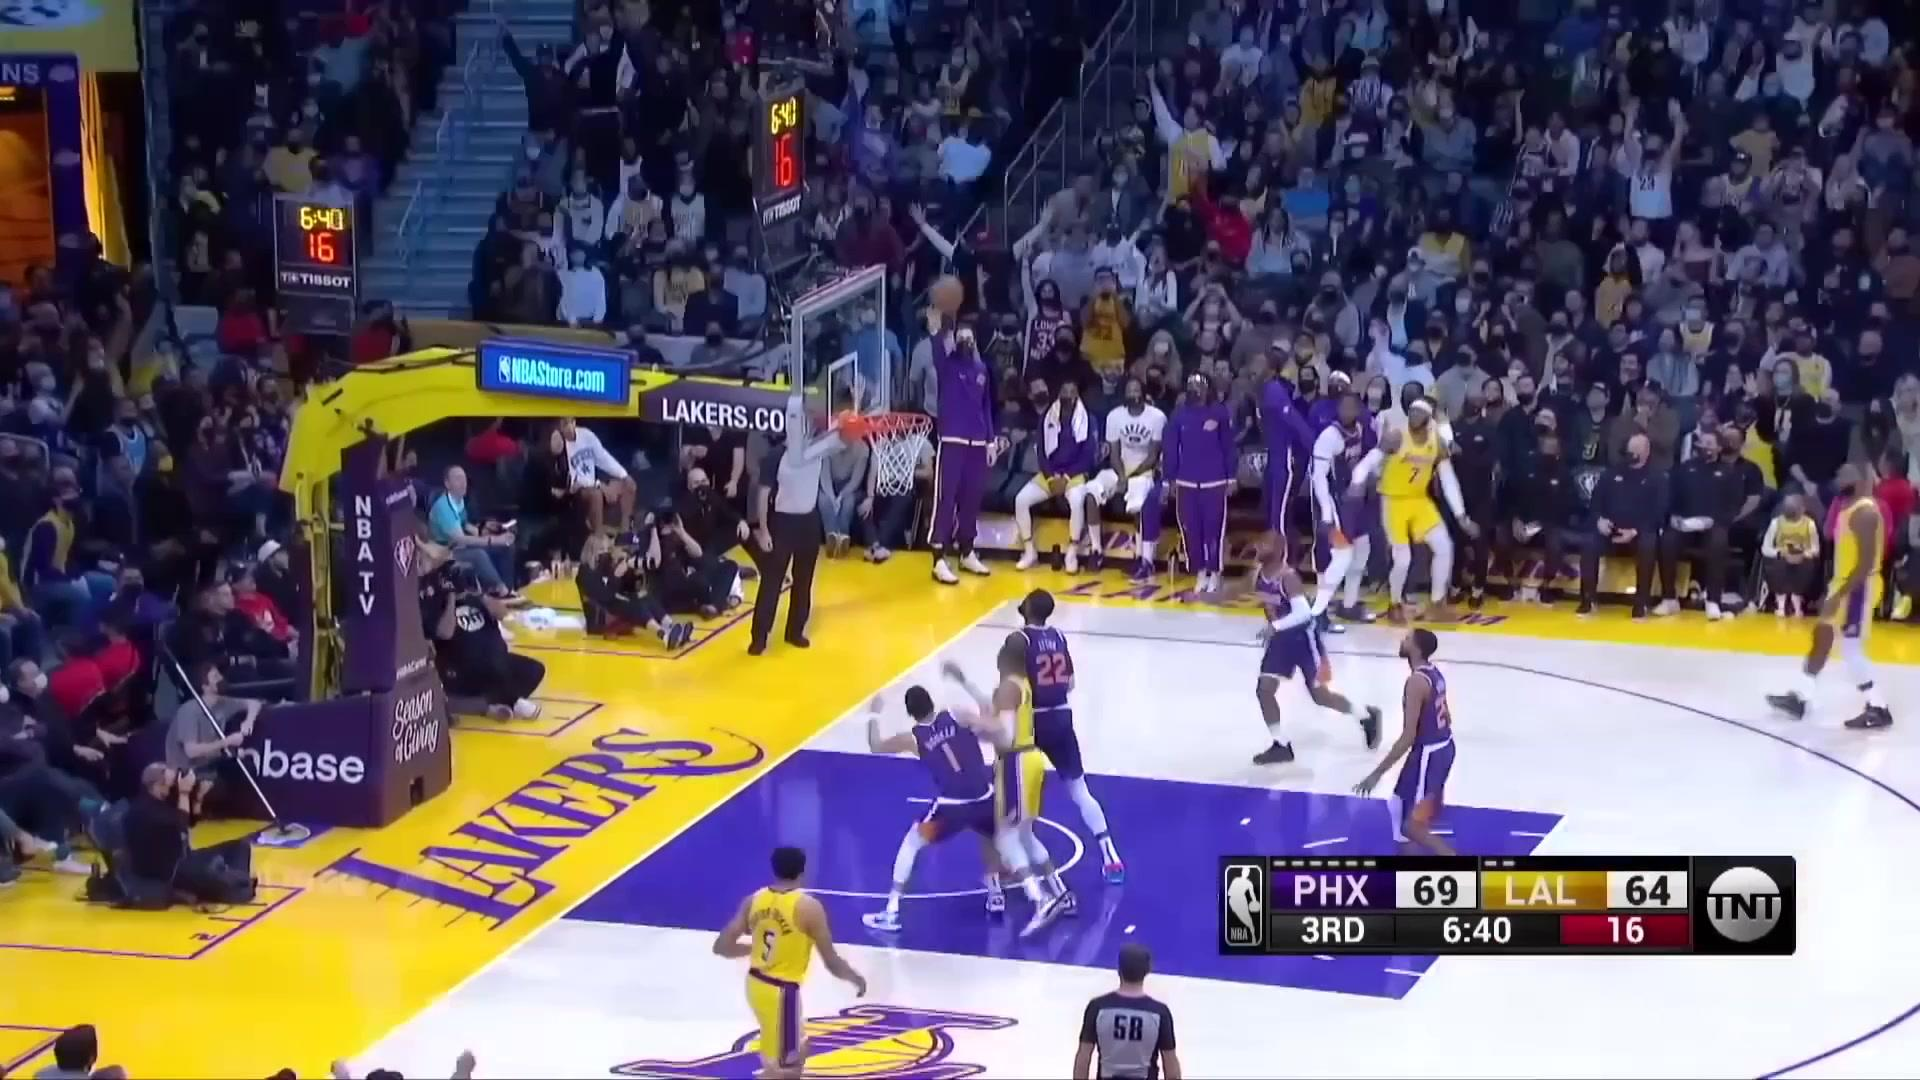foul: (841, 616, 1095, 931)
